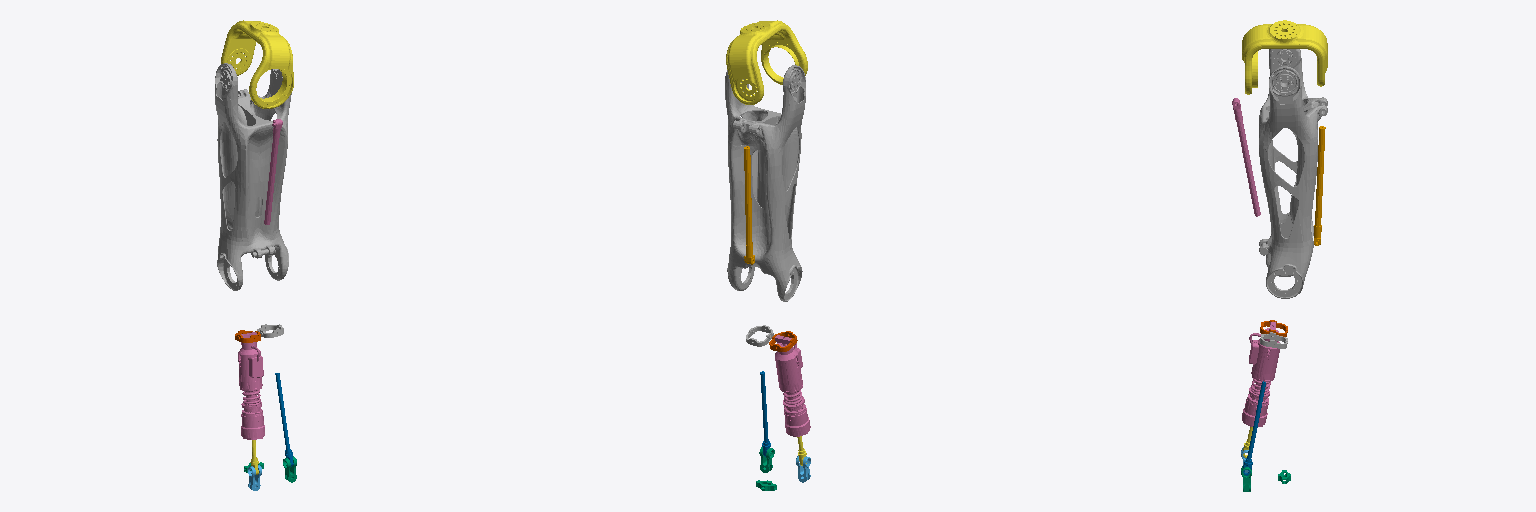
The robot description file, URDF, robot "lower_body":
<?xml version="1.0"?>
<!-- created with Phobos 0.7 -->
  <robot name="lower_body">

    <link name="LLAnkleBase_Link">
      <inertial>
        <origin xyz="0 0 0" rpy="0 0 0"/>
        <mass value="0.001"/>
        <inertia ixx="0.001" ixy="0" ixz="0" iyy="0.001" iyz="0" izz="0.001"/>
      </inertial>
    </link>

    <link name="LLAnklePitch_Link">
      <inertial>
        <origin xyz="0 0 0" rpy="0 0 0"/>
        <mass value="0.02493"/>
        <inertia ixx="0.00293" ixy="0" ixz="0" iyy="0.00116" iyz="0" izz="0.00358"/>
      </inertial>
      <visual name="LLvisual_0_AnklePitch_Link">
        <origin xyz="0 0 0" rpy="0 0 0"/>
        <geometry>
          <mesh filename="../meshes/stl/LLAnklePitch_Link.stl" scale="1.0 1.0 1.0"/>
        </geometry>
      </visual>
      <collision name="LLcollision_0_AnklePitch_Link">
        <origin xyz="0 0 0" rpy="0 0 0"/>
        <geometry>
          <mesh filename="../meshes/stl/LLAnklePitch_Link.stl" scale="1.0 1.0 1.0"/>
        </geometry>
      </collision>
    </link>

    <link name="LLAnkleRoll_Link">
      <inertial>
        <origin xyz="0 0 0" rpy="0 0 0"/>
        <mass value="1.215"/>
        <inertia ixx="1.84228" ixy="0.00018" ixz="-0.7643" iyy="7.14064" iyz="-0.00378" izz="7.15075"/>
      </inertial>
      <visual name="LLvisual_0_AnkleRoll_Link">
        <origin xyz="0 0 0" rpy="0 0 0"/>
        <geometry>
          <mesh filename="../meshes/stl/LLAnkleRoll_Link.stl" scale="1.0 1.0 1.0"/>
        </geometry>
      </visual>
      <collision name="LLcollision_0_AnkleRoll_Link">
        <origin xyz="0 0 0" rpy="0 0 0"/>
        <geometry>
          <mesh filename="../meshes/stl/LLAnkleRoll_Link.stl" scale="1.0 1.0 1.0"/>
        </geometry>
      </collision>
    </link>

    <link name="LLAnkle_Act1_Link">
      <inertial>
        <origin xyz="0 0 0" rpy="0 0 0"/>
        <mass value="0.16486"/>
        <inertia ixx="0.0010000005" ixy="0" ixz="0" iyy="0.0010000005" iyz="2e-10" izz="0.001"/>
      </inertial>
      <visual name="LLvisual_0_Ankle_Act1_Link">
        <origin xyz="0.1442 -0.10953 -0.78024" rpy="-2.9611 0.05071 -1.57111"/>
        <geometry>
          <mesh filename="../meshes/stl/Modified002.stl" scale="1.0 1.0 1.0"/>
        </geometry>
      </visual>
      <collision name="LLcollision_0_Ankle_Act1_Link">
        <origin xyz="0 0 0" rpy="0 0 0"/>
        <geometry>
          <mesh filename="../meshes/stl/LLAnkle_Act2_Link.stl" scale="1.0 1.0 1.0"/>
        </geometry>
      </collision>
    </link>

    <link name="LLAnkle_Act2_Link">
      <inertial>
        <origin xyz="0 0 0" rpy="0 0 0"/>
        <mass value="0.16486"/>
        <inertia ixx="0.0010000005" ixy="0" ixz="0" iyy="0.0010000005" iyz="2e-10" izz="0.001"/>
      </inertial>
      <visual name="LLvisual_0_Ankle_Act2_Link">
        <origin xyz="0.14423 -0.11108 -0.76905" rpy="-2.96107 -0.0506 -1.57111"/>
        <geometry>
          <mesh filename="../meshes/stl/Modified003.stl" scale="1.0 1.0 1.0"/>
        </geometry>
      </visual>
      <collision name="LLcollision_0_Ankle_Act2_Link">
        <origin xyz="0 0 0" rpy="0 0 0"/>
        <geometry>
          <mesh filename="../meshes/stl/LLAnkle_Act2_Link002.stl" scale="1.0 1.0 1.0"/>
        </geometry>
      </collision>
    </link>

    <link name="LLAnkle_B11_Link">
      <inertial>
        <origin xyz="0 0 0" rpy="0 0 0"/>
        <mass value="0.00654"/>
        <inertia ixx="0.001" ixy="0" ixz="0" iyy="0.001" iyz="0" izz="0.001"/>
      </inertial>
      <visual name="LLvisual_0_Ankle_B11_Link">
        <origin xyz="0 0 0" rpy="0 0 0"/>
        <geometry>
          <mesh filename="../meshes/stl/LLAnkle_B11_Link.stl" scale="1.0 1.0 1.0"/>
        </geometry>
      </visual>
      <collision name="LLcollision_0_Ankle_B11_Link">
        <origin xyz="0 0 0" rpy="0 0 0"/>
        <geometry>
          <mesh filename="../meshes/stl/LLAnkle_B11_Link.stl" scale="1.0 1.0 1.0"/>
        </geometry>
      </collision>
    </link>

    <link name="LLAnkle_B12_Link">
      <inertial>
        <origin xyz="0 0 0" rpy="0 0 0"/>
        <mass value="0.525"/>
        <inertia ixx="0.00092" ixy="0" ixz="-2e-05" iyy="0.00092" iyz="0" izz="0.0004"/>
      </inertial>
      <visual name="LLvisual_0_Ankle_B12_Link">
        <origin xyz="0.14429 -0.10953 -0.51426" rpy="-2.96107 0.0506 -1.5705"/>
        <geometry>
          <mesh filename="../meshes/stl/Modified.stl" scale="1.0 1.0 1.0"/>
        </geometry>
      </visual>
      <collision name="LLcollision_0_Ankle_B12_Link">
        <origin xyz="0 0 0" rpy="0 0 0"/>
        <geometry>
          <mesh filename="../meshes/stl/LLAnkle_B12_Link.stl" scale="1.0 1.0 1.0"/>
        </geometry>
      </collision>
    </link>

    <link name="LLAnkle_B21_Link">
      <inertial>
        <origin xyz="0 0 0" rpy="0 0 0"/>
        <mass value="0.00654"/>
        <inertia ixx="0.001" ixy="0" ixz="0" iyy="0.001" iyz="0" izz="0.001"/>
      </inertial>
      <visual name="LLvisual_0_Ankle_B21_Link">
        <origin xyz="0 0 0" rpy="0 0 0"/>
        <geometry>
          <mesh filename="../meshes/stl/LLAnkle_B21_Link.stl" scale="1.0 1.0 1.0"/>
        </geometry>
      </visual>
      <collision name="LLcollision_0_Ankle_B21_Link">
        <origin xyz="0 0 0" rpy="0 0 0"/>
        <geometry>
          <mesh filename="../meshes/stl/LLAnkle_B21_Link.stl" scale="1.0 1.0 1.0"/>
        </geometry>
      </collision>
    </link>

    <link name="LLAnkle_B22_Link">
      <inertial>
        <origin xyz="0 0 0" rpy="0 0 0"/>
        <mass value="0.525"/>
        <inertia ixx="0.00092" ixy="0" ixz="-2e-05" iyy="0.00092" iyz="0" izz="0.0004"/>
      </inertial>
      <visual name="LLvisual_0_Ankle_B22_Link">
        <origin xyz="0.14423 -0.11108 -0.50308" rpy="-2.96107 -0.0506 -1.57111"/>
        <geometry>
          <mesh filename="../meshes/stl/Modified001.stl" scale="1.0 1.0 1.0"/>
        </geometry>
      </visual>
      <collision name="LLcollision_0_Ankle_B22_Link">
        <origin xyz="0 0 0" rpy="0 0 0"/>
        <geometry>
          <mesh filename="../meshes/stl/LLAnkle_B22_Link.stl" scale="1.0 1.0 1.0"/>
        </geometry>
      </collision>
    </link>

    <link name="LLAnkle_E11_Link">
      <inertial>
        <origin xyz="0 0 0" rpy="0 0 0"/>
        <mass value="0.025"/>
        <inertia ixx="0" ixy="0" ixz="0" iyy="0" iyz="0.001" izz="0"/>
      </inertial>
      <visual name="LLvisual_0_Ankle_E11_Link">
        <origin xyz="0 0 0" rpy="-0.05066 0 0"/>
        <geometry>
          <mesh filename="../meshes/stl/LLAnkle_E11_Link.stl" scale="1.0 1.0 1.0"/>
        </geometry>
      </visual>
      <collision name="LLcollision_0_Ankle_E11_Link">
        <origin xyz="0 0 0" rpy="-0.05066 0 0"/>
        <geometry>
          <mesh filename="../meshes/stl/LLAnkle_E11_Link.stl" scale="1.0 1.0 1.0"/>
        </geometry>
      </collision>
    </link>

    <link name="LLAnkle_E21_Link">
      <inertial>
        <origin xyz="0 0 0" rpy="0 0 0"/>
        <mass value="0.025"/>
        <inertia ixx="0" ixy="0" ixz="0" iyy="0" iyz="0.001" izz="0"/>
      </inertial>
      <visual name="LLvisual_0_Ankle_E21_Link">
        <origin xyz="0 0 0" rpy="0.05066 0 0"/>
        <geometry>
          <mesh filename="../meshes/stl/LLAnkle_E21_Link.stl" scale="1.0 1.0 1.0"/>
        </geometry>
      </visual>
      <collision name="LLcollision_0_Ankle_E21_Link">
        <origin xyz="0 0 0" rpy="0.05066 0 0"/>
        <geometry>
          <mesh filename="../meshes/stl/LLAnkle_E21_Link.stl" scale="1.0 1.0 1.0"/>
        </geometry>
      </collision>
    </link>

    <link name="LLHip1_Link">
      <inertial>
        <origin xyz="0 -0.00162 0.04962" rpy="0 0 0"/>
        <mass value="0.5"/>
        <inertia ixx="2.02468" ixy="0" ixz="0" iyy="0.95762" iyz="0.12913" izz="1.50775"/>
      </inertial>
      <visual name="LLvisual_0_Hip1_Link">
        <origin xyz="0 0 0" rpy="0 0 0"/>
        <geometry>
          <mesh filename="../meshes/stl/LLHip1_Link.stl" scale="1.0 1.0 1.0"/>
        </geometry>
      </visual>
      <collision name="LLcollision_0_Hip1_Link">
        <origin xyz="0 0 0" rpy="0 0 0"/>
        <geometry>
          <mesh filename="../meshes/stl/LLHip1_Link.stl" scale="1.0 1.0 1.0"/>
        </geometry>
      </collision>
    </link>

    <link name="LLHip2_Link">
      <inertial>
        <origin xyz="0 0 0" rpy="0 0 0"/>
        <mass value="0.969"/>
        <inertia ixx="0.0017" ixy="-8e-05" ixz="-5e-05" iyy="0.00116" iyz="0.0003" izz="0.00154"/>
      </inertial>
      <visual name="LLvisual_0_Hip2_Link">
        <origin xyz="0 0 0" rpy="0 0 0"/>
        <geometry>
          <mesh filename="../meshes/stl/LLHip2_Link.stl" scale="1.0 1.0 1.0"/>
        </geometry>
      </visual>
      <collision name="LLcollision_0_Hip2_Link">
        <origin xyz="0 0 0" rpy="0 0 0"/>
        <geometry>
          <mesh filename="../meshes/stl/LLHip2_Link.stl" scale="1.0 1.0 1.0"/>
        </geometry>
      </collision>
    </link>

    <link name="LLHip3_Act1_Link">
      <inertial>
        <origin xyz="0 0 0" rpy="0 0 0"/>
        <mass value="1.224"/>
        <inertia ixx="0.00078" ixy="-5e-05" ixz="0" iyy="0.00594" iyz="0" izz="0.00596"/>
      </inertial>
      <visual name="LLvisual_0_Hip3_Act1_Link">
        <origin xyz="0 0 0" rpy="0 0 0"/>
        <geometry>
          <mesh filename="../meshes/stl/LLHip3_Act1_Link.stl" scale="1.0 1.0 1.0"/>
        </geometry>
      </visual>
      <collision name="LLcollision_0_Hip3_Act1_Link">
        <origin xyz="0 0 0" rpy="0 0 0"/>
        <geometry>
          <mesh filename="../meshes/stl/LLHip3_Act1_Link.stl" scale="1.0 1.0 1.0"/>
        </geometry>
      </collision>
    </link>

    <link name="LLHip3_B11_Link">
      <inertial>
        <origin xyz="0 0 0" rpy="0 0 0"/>
        <mass value="0.16503"/>
        <inertia ixx="0" ixy="0" ixz="0" iyy="0" iyz="0" izz="0"/>
      </inertial>
      <visual name="LLvisual_0_Hip3_B11_Link">
        <origin xyz="0 0 0" rpy="0 0 0"/>
        <geometry>
          <mesh filename="../meshes/stl/LLHip3_B11_Link.stl" scale="1.0 1.0 1.0"/>
        </geometry>
      </visual>
      <collision name="LLcollision_0_Hip3_B11_Link">
        <origin xyz="0 0 0" rpy="0 0 0"/>
        <geometry>
          <mesh filename="../meshes/stl/LLHip3_B11_Link.stl" scale="1.0 1.0 1.0"/>
        </geometry>
      </collision>
    </link>

    <link name="LLHip3_Link">
      <inertial>
        <origin xyz="0 0 0" rpy="0 0 0"/>
        <mass value="1.0488"/>
        <inertia ixx="0.02038" ixy="-4e-05" ixz="-0.00473" iyy="0.02263" iyz="0.00014" izz="0.00422"/>
      </inertial>
      <visual name="LLvisual_0_Hip3_Link">
        <origin xyz="0 0 0" rpy="0 0 0"/>
        <geometry>
          <mesh filename="../meshes/stl/LLHip3_Link.stl" scale="1.0 1.0 1.0"/>
        </geometry>
      </visual>
      <collision name="LLcollision_0_Hip3_Link">
        <origin xyz="0 0 0" rpy="0 0 0"/>
        <geometry>
          <mesh filename="../meshes/stl/LLHip3_Link.stl" scale="1.0 1.0 1.0"/>
        </geometry>
      </collision>
    </link>

    <link name="LLKnee_Act1_Link">
      <inertial>
        <origin xyz="0 0 0" rpy="0 0 0"/>
        <mass value="0.16503"/>
        <inertia ixx="0" ixy="0" ixz="0" iyy="0" iyz="0" izz="0"/>
      </inertial>
      <visual name="LLvisual_0_Knee_Act1_Link">
        <origin xyz="0 0 0" rpy="0 0 0"/>
        <geometry>
          <mesh filename="../meshes/stl/LLKnee_Act1_Link.stl" scale="1.0 1.0 1.0"/>
        </geometry>
      </visual>
      <collision name="LLcollision_0_Knee_Act1_Link">
        <origin xyz="0 0 0" rpy="0 0 0"/>
        <geometry>
          <mesh filename="../meshes/stl/LLKnee_Act1_Link.stl" scale="1.0 1.0 1.0"/>
        </geometry>
      </collision>
    </link>

    <link name="LLKnee_B11_Link">
      <inertial>
        <origin xyz="0 0 0" rpy="0 0 0"/>
        <mass value="1.224"/>
        <inertia ixx="0.00078" ixy="-5e-05" ixz="0" iyy="0.00594" iyz="0" izz="0.00596"/>
      </inertial>
      <visual name="LLvisual_0_Knee_B11_Link">
        <origin xyz="0 0 0" rpy="0 0 0"/>
        <geometry>
          <mesh filename="../meshes/stl/LLKnee_B11_Link.stl" scale="1.0 1.0 1.0"/>
        </geometry>
      </visual>
      <collision name="LLcollision_0_Knee_B11_Link">
        <origin xyz="0 0 0" rpy="0 0 0"/>
        <geometry>
          <mesh filename="../meshes/stl/LLKnee_B11_Link.stl" scale="1.0 1.0 1.0"/>
        </geometry>
      </collision>
    </link>

    <link name="LLKnee_Link">
      <inertial>
        <origin xyz="0 0 0" rpy="0 0 0"/>
        <mass value="1.224"/>
        <inertia ixx="0.00078" ixy="-5e-05" ixz="0" iyy="0.00594" iyz="0" izz="0.00596"/>
      </inertial>
      <visual name="LLvisual_0_Knee_Link">
        <origin xyz="0 0 0" rpy="0 0 0"/>
        <geometry>
          <mesh filename="../meshes/stl/LLKnee_Link.stl" scale="1.0 1.0 1.0"/>
        </geometry>
      </visual>
      <collision name="LLcollision_0_Knee_Link">
        <origin xyz="0 0 0" rpy="0 0 0"/>
        <geometry>
          <box size="0.49951 0.12789 0.1199"/>
        </geometry>
      </collision>
    </link>

    <link name="RH5_Root_Link">
      <inertial>
        <origin xyz="-2e-05 0.05773 0.13284" rpy="0 0 0"/>
        <mass value="3.341"/>
        <inertia ixx="19.25987" ixy="-0.00367" ixz="-0.00781" iyy="30.47776" iyz="1.97034" izz="36.59542"/>
      </inertial>
      <visual name="visual_0_RH5_Root_Link">
        <origin xyz="0 0 0" rpy="0 0 0"/>
        <geometry>
          <mesh filename="../meshes/stl/RH5_Root_Link.stl" scale="1.0 1.0 1.0"/>
        </geometry>
      </visual>
      <collision name="collision_0_RH5_Root_Link">
        <origin xyz="0 0 0" rpy="0 0 0"/>
        <geometry>
          <mesh filename="../meshes/stl/RH5_Root_Link.stl" scale="1.0 1.0 1.0"/>
        </geometry>
      </collision>
    </link>

    <joint name="LLAnkleBase_Link" type="fixed">
      <origin xyz="0.42 0 0.0015" rpy="1.5708 0 -1.5708"/>
      <parent link="LLKnee_Link"/>
      <child link="LLAnkleBase_Link"/>
    </joint>

    <joint name="LLAnklePitch" type="revolute">
      <origin xyz="0 0 0" rpy="0 0 0"/>
      <parent link="LLAnkleRoll_Link"/>
      <child link="LLAnklePitch_Link"/>
      <axis xyz="0 1.0 0"/>
      <limit lower="-0.89884" upper="0.7854" effort="304" velocity="8.76155"/>
    </joint>

    <joint name="LLAnkleRoll" type="revolute">
      <origin xyz="0 0 0" rpy="0 0 0"/>
      <parent link="LLAnkleBase_Link"/>
      <child link="LLAnkleRoll_Link"/>
      <axis xyz="1.0 0 0"/>
      <limit lower="-0.99484" upper="0.99484" effort="158" velocity="12.6711"/>
    </joint>

    <joint name="LLAnkle_Act1" type="prismatic">
      <origin xyz="0 0 0.26597" rpy="-0.00011 -3e-05 0.00061"/>
      <parent link="LLAnkle_B12_Link"/>
      <child link="LLAnkle_Act1_Link"/>
      <axis xyz="0 0 1.0"/>
      <limit lower="-3.13" upper="3.13" effort="2000" velocity="0.265"/>
    </joint>

    <joint name="LLAnkle_Act2" type="prismatic">
      <origin xyz="0 0 0.26597" rpy="0 0 0"/>
      <parent link="LLAnkle_B22_Link"/>
      <child link="LLAnkle_Act2_Link"/>
      <axis xyz="0 0 1.0"/>
      <limit lower="-3.13" upper="3.13" effort="2000" velocity="0.265"/>
    </joint>

    <joint name="LLAnkle_B11" type="revolute">
      <origin xyz="-0.0223 0.025 0.29127" rpy="-0.05059 -2.96709 0"/>
      <parent link="LLAnkleBase_Link"/>
      <child link="LLAnkle_B11_Link"/>
      <axis xyz="1.0 0 0"/>
      <limit lower="-3.13" upper="3.13" effort="0" velocity="0"/>
    </joint>

    <joint name="LLAnkle_B12" type="revolute">
      <origin xyz="0 0 0" rpy="0 0.00601 0"/>
      <parent link="LLAnkle_B11_Link"/>
      <child link="LLAnkle_B12_Link"/>
      <axis xyz="0 1.0 0"/>
      <limit lower="-3.13" upper="3.13" effort="0" velocity="0"/>
    </joint>

    <joint name="LLAnkle_B21" type="revolute">
      <origin xyz="-0.0223 -0.025 0.29127" rpy="0.05061 -2.96709 0"/>
      <parent link="LLAnkleBase_Link"/>
      <child link="LLAnkle_B21_Link"/>
      <axis xyz="1.0 0 0"/>
      <limit lower="-3.13" upper="3.13" effort="0" velocity="0"/>
    </joint>

    <joint name="LLAnkle_B22" type="revolute">
      <origin xyz="0 0 0" rpy="0 0.00601 0"/>
      <parent link="LLAnkle_B21_Link"/>
      <child link="LLAnkle_B22_Link"/>
      <axis xyz="0 1.0 0"/>
      <limit lower="-3.13" upper="3.13" effort="0" velocity="0"/>
    </joint>

    <joint name="LLAnkle_E11" type="revolute">
      <origin xyz="-0.07 0.04 0" rpy="0.05066 0 0"/>
      <parent link="LLAnklePitch_Link"/>
      <child link="LLAnkle_E11_Link"/>
      <axis xyz="1.0 0 0"/>
      <limit lower="-3.13" upper="3.13" effort="0" velocity="0"/>
    </joint>

    <joint name="LLAnkle_E21" type="revolute">
      <origin xyz="-0.07 -0.04 0" rpy="-0.05066 0 0"/>
      <parent link="LLAnklePitch_Link"/>
      <child link="LLAnkle_E21_Link"/>
      <axis xyz="1.0 0 0"/>
      <limit lower="-3.13" upper="3.13" effort="0" velocity="0"/>
    </joint>

    <joint name="LLHip1" type="revolute">
      <origin xyz="-0.11044 0.0735 0.01427" rpy="0 0.2618 0"/>
      <parent link="RH5_Root_Link"/>
      <child link="LLHip1_Link"/>
      <axis xyz="0 0 1.0"/>
      <limit lower="-3.14159" upper="3.14159" effort="135.0" velocity="3.66519"/>
    </joint>

    <joint name="LLHip2" type="revolute">
      <origin xyz="0 0 0" rpy="0 0 0"/>
      <parent link="LLHip1_Link"/>
      <child link="LLHip2_Link"/>
      <axis xyz="0 1.0 0"/>
      <limit lower="-0.80285" upper="1.16937" effort="135.0" velocity="3.66519"/>
    </joint>

    <joint name="LLHip3" type="revolute">
      <origin xyz="0 0 0" rpy="0 0 0"/>
      <parent link="LLHip2_Link"/>
      <child link="LLHip3_Link"/>
      <axis xyz="-0.96593 0 -0.25882"/>
      <limit lower="-1.26013" upper="0.28623" effort="538.0" velocity="2.18166"/>
    </joint>

    <joint name="LLHip3_Act1" type="prismatic">
      <origin xyz="0.2974 0 0" rpy="-3.14159 0 0"/>
      <parent link="LLHip3_B11_Link"/>
      <child link="LLHip3_Act1_Link"/>
      <axis xyz="1.0 0 0"/>
      <limit lower="-3.13" upper="3.13" effort="4740" velocity="0.175"/>
    </joint>

    <joint name="LLHip3_B11" type="revolute">
      <origin xyz="0.01812 -0.09 -0.06762" rpy="-2.5686 1.2577 0.59588"/>
      <parent link="LLHip2_Link"/>
      <child link="LLHip3_B11_Link"/>
      <axis xyz="0 0 1.0"/>
      <limit lower="-3.13" upper="3.13" effort="0" velocity="0"/>
    </joint>

    <joint name="LLKnee" type="revolute">
      <origin xyz="0.10788 -0.0005 -0.39684" rpy="-3.14159 1.309 0"/>
      <parent link="LLHip3_Link"/>
      <child link="LLKnee_Link"/>
      <axis xyz="0 0 1.0"/>
      <limit lower="0" upper="1.52716" effort="501.0" velocity="2.54818"/>
    </joint>

    <joint name="LLKnee_Act1" type="prismatic">
      <origin xyz="0.27341 0 0" rpy="0 0 0"/>
      <parent link="LLKnee_B11_Link"/>
      <child link="LLKnee_Act1_Link"/>
      <axis xyz="1.0 0 0"/>
      <limit lower="-3.13" upper="3.13" effort="5845" velocity="0.140"/>
    </joint>

    <joint name="LLKnee_B11" type="revolute">
      <origin xyz="0.02018 0.07074 -0.07529" rpy="-0.15081 1.3059 -0.15617"/>
      <parent link="LLHip3_Link"/>
      <child link="LLKnee_B11_Link"/>
      <axis xyz="0 0 -1.0"/>
      <limit lower="-3.13" upper="3.13" effort="0" velocity="0"/>
    </joint>

  </robot>

--- Render facts (derived) ---
Views: 3 orthographic renders of the robot side by side, from view 1: azimuth 30°, elevation 25°; view 2: azimuth 150°, elevation 25°; view 3: azimuth 270°, elevation 25°.
Model lower_body with 20 links and 19 joints (14 revolute, 4 prismatic, 1 fixed), rooted at RH5_Root_Link, posed every joint at zero.
Links seen in each view (by area): view 1: LLHip3_Link, LLHip1_Link, LLAnkle_B12_Link, LLHip3_B11_Link; view 2: LLHip3_Link, LLHip1_Link, LLAnkle_B12_Link, LLKnee_Act1_Link; view 3: LLHip3_Link, LLHip1_Link, LLAnkle_B12_Link, LLHip3_B11_Link, LLKnee_Act1_Link.
Boxes of the visible links, bbox=[...] form: LLHip3_Link: bbox=[215, 63, 291, 290]; LLHip1_Link: bbox=[221, 20, 293, 108]; LLAnkle_B12_Link: bbox=[238, 332, 264, 439]; LLHip3_B11_Link: bbox=[264, 119, 282, 224]; LLHip3_Link: bbox=[725, 65, 805, 301]; LLHip1_Link: bbox=[726, 20, 807, 104]; LLAnkle_B12_Link: bbox=[775, 335, 810, 436]; LLKnee_Act1_Link: bbox=[744, 146, 754, 264]; LLHip3_Link: bbox=[1259, 49, 1327, 298]; LLHip1_Link: bbox=[1242, 20, 1327, 94]; LLAnkle_B12_Link: bbox=[1242, 322, 1279, 426]; LLHip3_B11_Link: bbox=[1232, 98, 1260, 216]; LLKnee_Act1_Link: bbox=[1314, 126, 1325, 245].
Size in the robot's own frame: 0.15 by 0.1756 by 0.9376 metres.
12 mesh visuals loaded from 19 distinct referenced files (12 binary STL); not drawn: 7 (reference not matched to a file when rendering).
